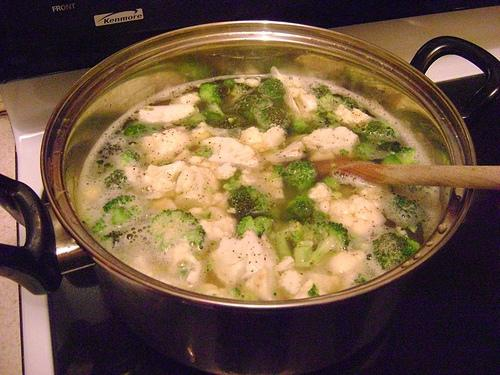broccoli: (152, 209, 206, 251), (373, 230, 420, 270), (310, 221, 351, 266), (222, 94, 272, 122), (227, 184, 269, 216), (272, 161, 316, 190), (347, 120, 398, 145), (102, 194, 142, 224), (285, 116, 326, 140), (284, 194, 316, 224), (200, 100, 230, 129), (237, 215, 273, 238), (288, 218, 317, 246), (96, 142, 123, 172), (356, 142, 396, 161), (308, 105, 340, 128), (381, 148, 420, 166), (182, 103, 208, 126), (258, 78, 286, 99), (104, 168, 128, 190), (222, 170, 243, 192), (392, 194, 417, 212), (120, 150, 140, 166), (378, 140, 402, 152), (125, 123, 147, 136), (90, 218, 107, 234), (312, 84, 330, 98), (195, 145, 212, 159), (223, 78, 236, 94), (352, 273, 366, 286)
cauliflower: (207, 229, 282, 301), (314, 194, 386, 235), (302, 126, 361, 162), (138, 92, 202, 124), (140, 128, 194, 164), (202, 136, 260, 168), (188, 206, 238, 242), (327, 251, 366, 289), (142, 160, 188, 192), (166, 242, 201, 283), (176, 166, 220, 196), (176, 188, 231, 212), (261, 138, 308, 166), (242, 168, 285, 198), (239, 127, 286, 154), (189, 122, 230, 142), (332, 104, 371, 124), (269, 66, 304, 88), (290, 86, 318, 111), (306, 274, 340, 294), (275, 270, 302, 295), (307, 182, 333, 204), (274, 255, 295, 280), (147, 196, 176, 212), (213, 162, 237, 180), (193, 283, 220, 298), (125, 166, 146, 183), (285, 134, 310, 144), (244, 78, 261, 88)
